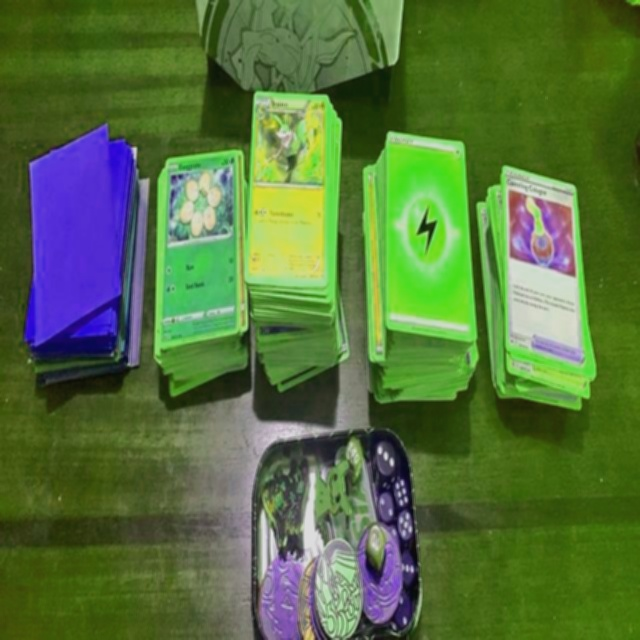card: (384, 131, 476, 343), (502, 163, 590, 382), (245, 91, 331, 291), (158, 149, 240, 349)
